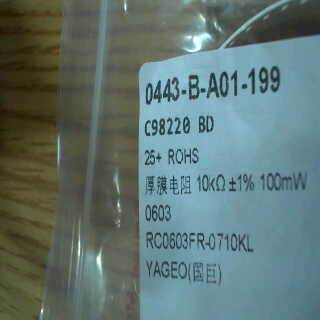10kR: (194, 171, 227, 194)
